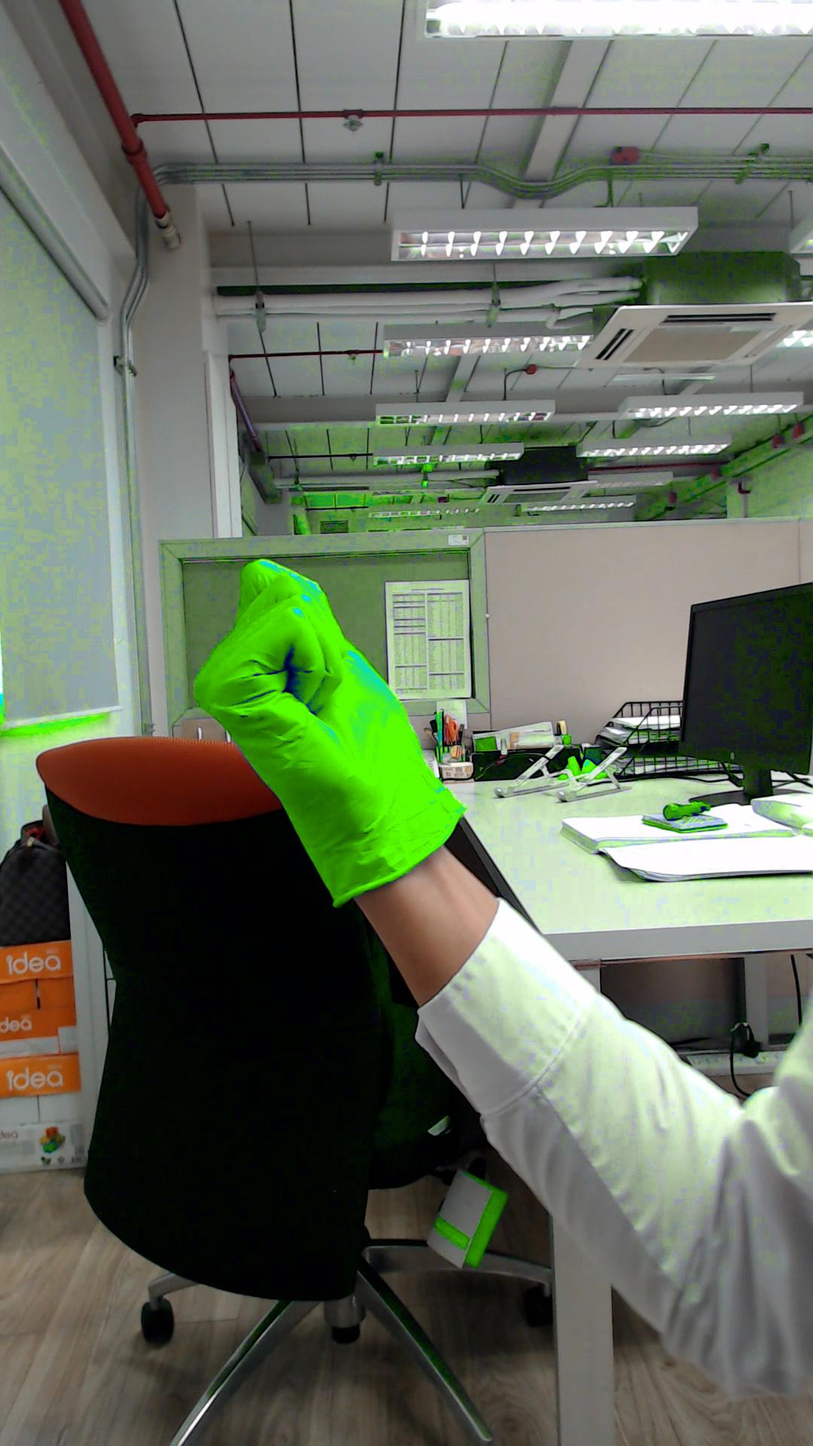gloves: (186, 535, 415, 798)
